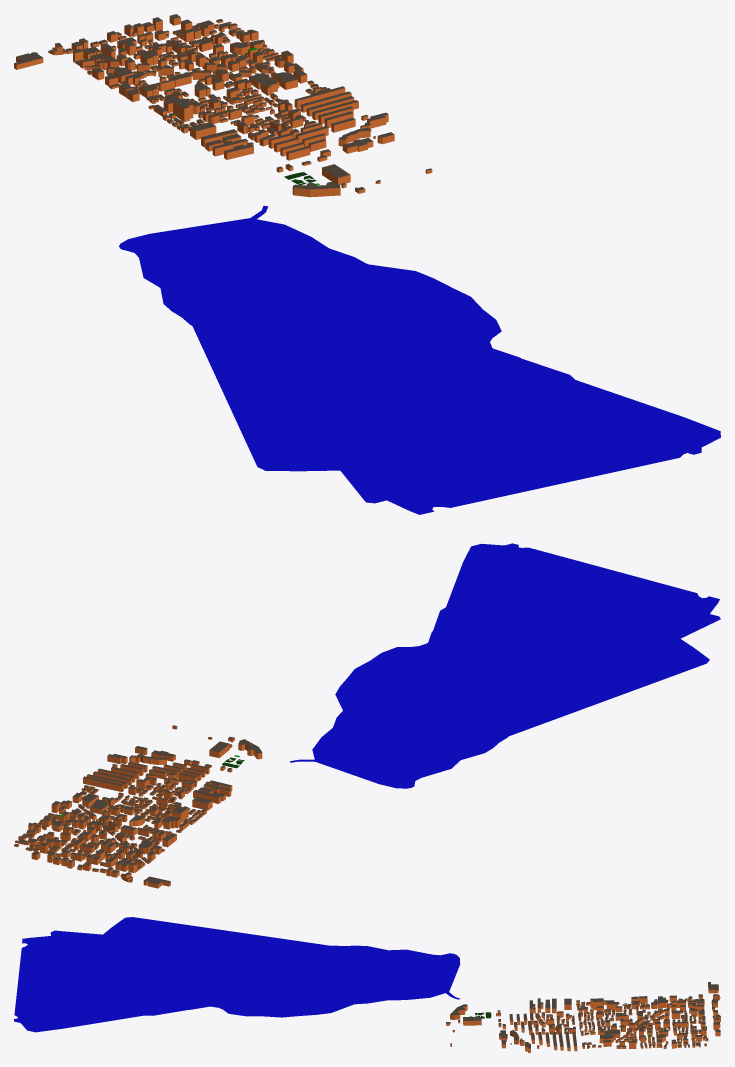
File: MapBuildings.obj
The picture shows the model from 3 angles, top to bottom: view 1: azimuth 30°, elevation 25°; view 2: azimuth 150°, elevation 25°; view 3: azimuth 270°, elevation 25°; orthographic projection. The views are drawn at different scales.
Visible parts, largest first — view 1: map.osm_water, map.osm_buildings; view 2: map.osm_water, map.osm_buildings; view 3: map.osm_water, map.osm_buildings.
Part boxes in pixels (x1,y1,x2,y2): map.osm_water: (119,205,720,514); map.osm_buildings: (14,14,432,197); map.osm_water: (290,543,720,788); map.osm_buildings: (14,725,262,888); map.osm_water: (14,917,460,1032); map.osm_buildings: (446,982,720,1052).
Size of the model in its own units: 1043 by 29.41 by 2295.
